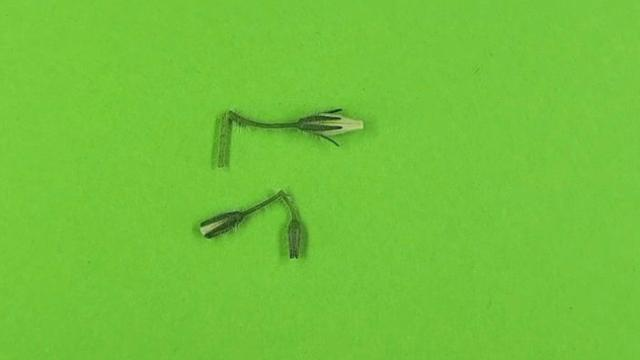Flower Bud: (302, 110, 364, 137), (199, 212, 243, 240), (288, 221, 301, 259)
